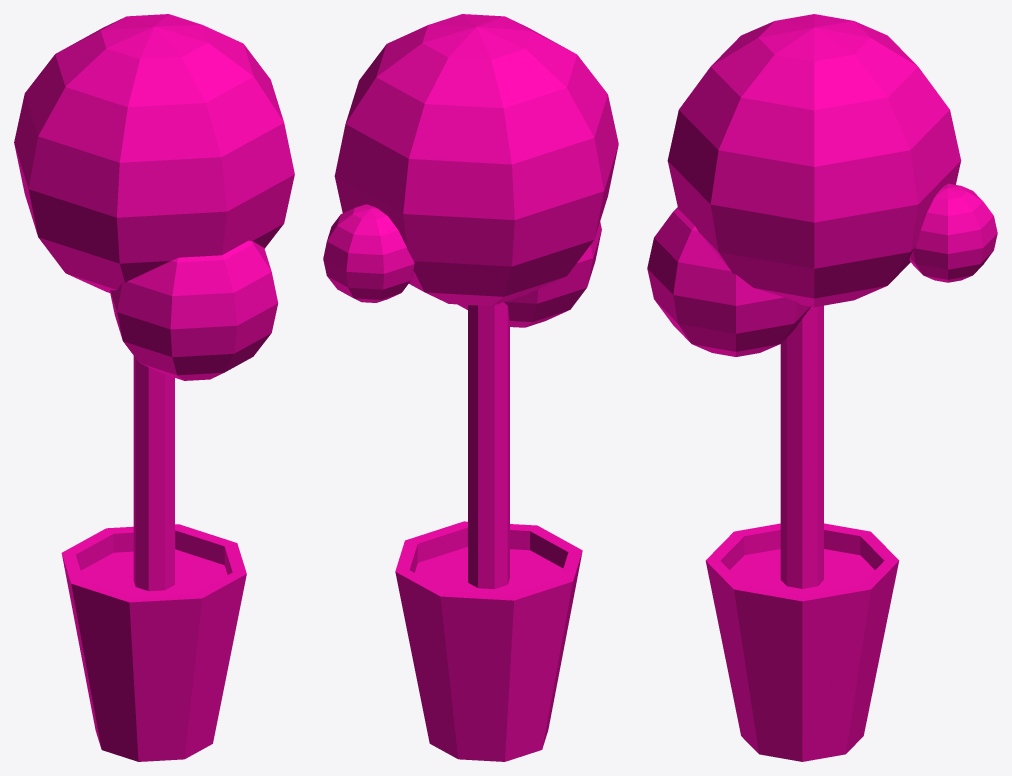
The model's file is plant_tree.fbx.
3 renders of one model, left to right at view 1: azimuth 30°, elevation 25°; view 2: azimuth 150°, elevation 25°; view 3: azimuth 270°, elevation 25°, orthographic.
Visible parts, largest first — view 1: pSphere4; view 2: pSphere4; view 3: pSphere4.
Part boxes in pixels (left/top/right/bottom): pSphere4: left=14, top=14, right=294, bottom=761; pSphere4: left=323, top=14, right=618, bottom=761; pSphere4: left=647, top=14, right=997, bottom=761.
Size of the model in its own units: 3.03 by 8.11 by 3.62.
